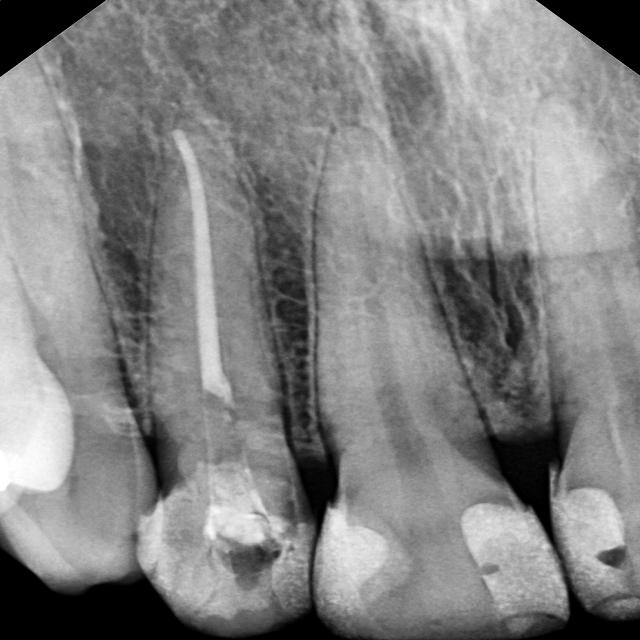Caries: (442, 473, 640, 640), (262, 460, 392, 640)
